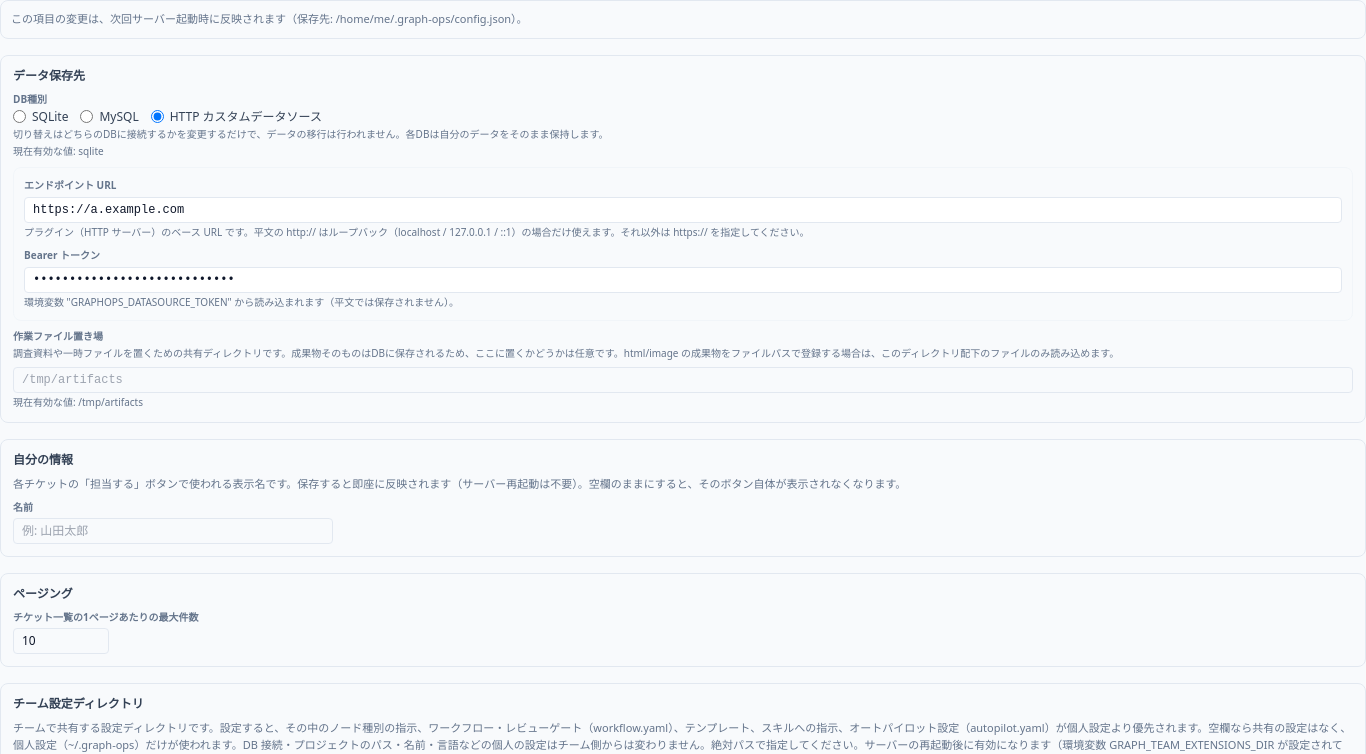
Test: AppSettingsEditor: HTTP custom data source › changing the URL empties the saved token and asks for it again; reverting restores it
Replace the text in the field labelled "エンドポイント URL" with "https://b.example.com" at x=683, y=210, box [24,196,1342,222]
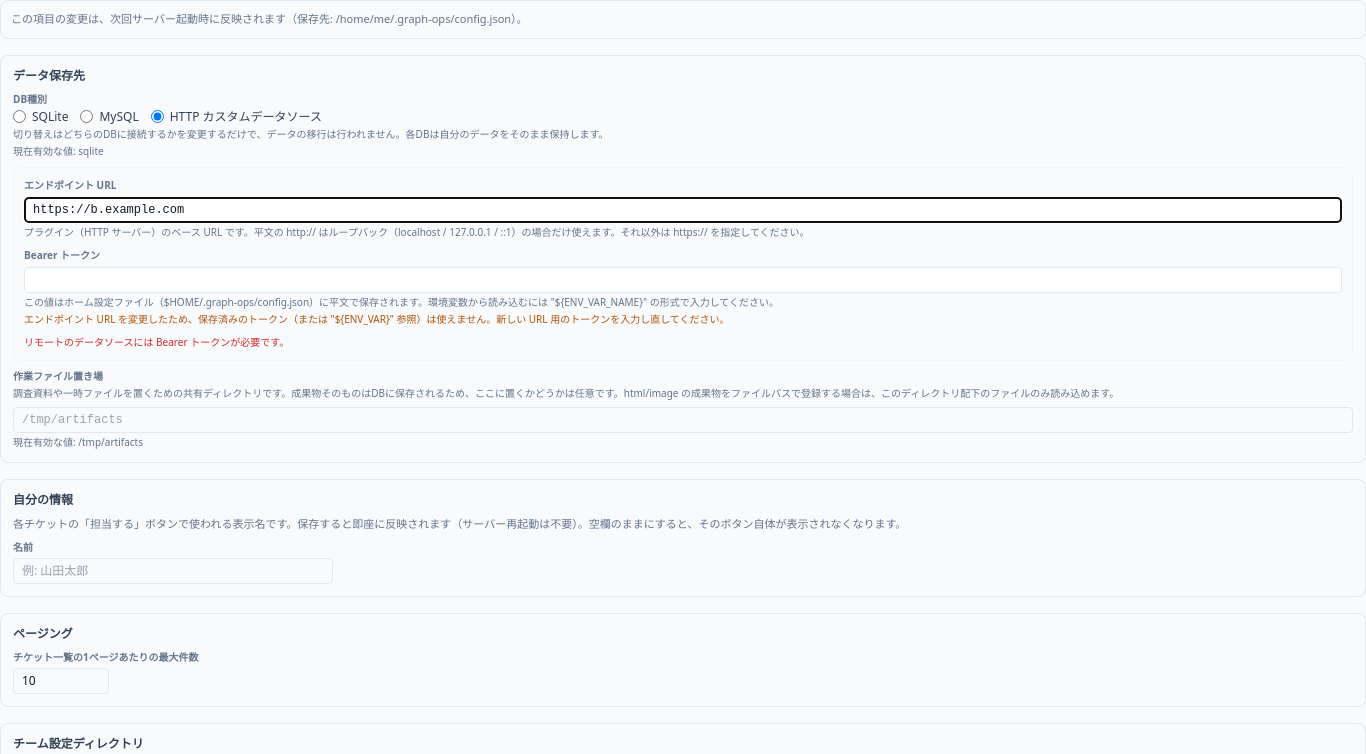
Expected: the password field labelled "Bearer トークン" is empty, [24,266,1342,292]
Expected: the text "エンドポイント URL を変更したため、保存済みのトークン（または \"${ENV_VAR}\" 参照）は使えません。新しい URL 用のトークンを入力し直してください。" is shown, [24,312,730,326]
Replace the text in the field labelled "エンドポイント URL" with "https://a.example.com/" at x=683, y=210, box [24,196,1342,222]
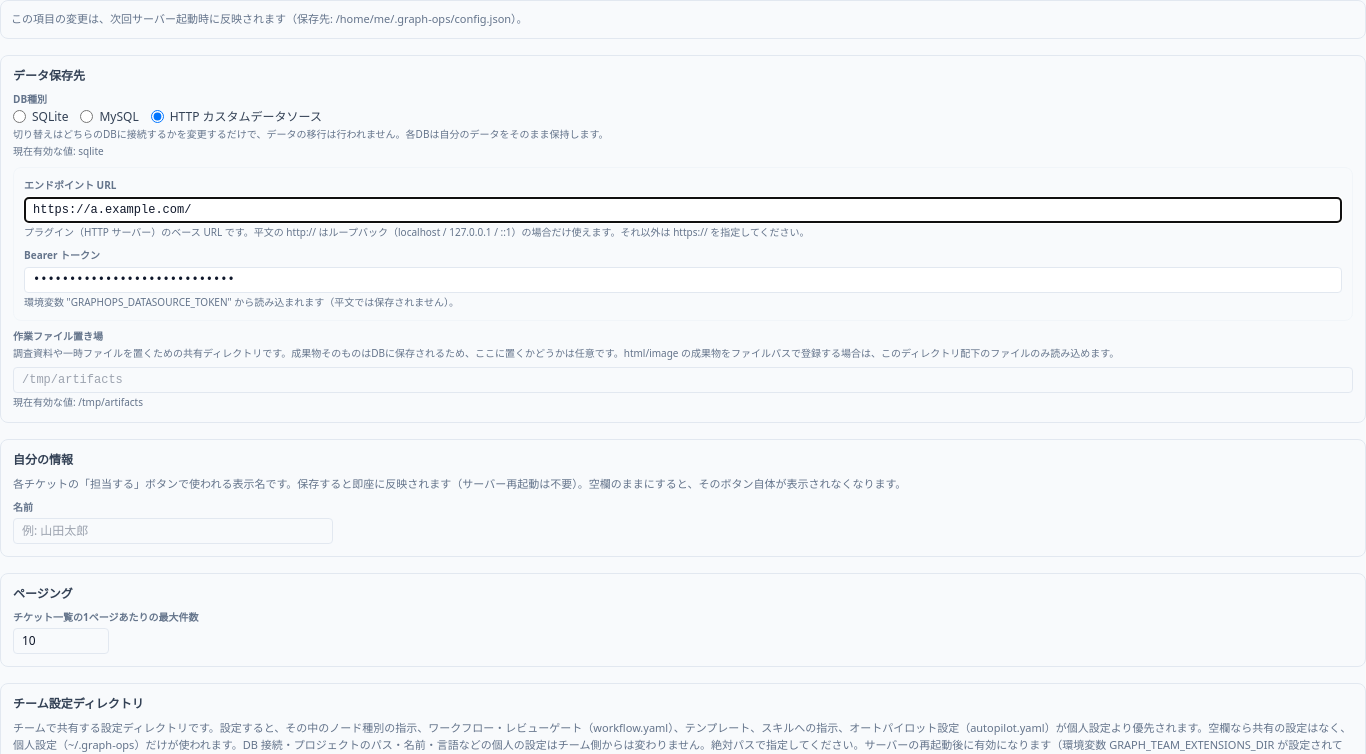
Expected: the password field labelled "Bearer トークン" holds "${GRAPHOPS_DATASOURCE_TOKEN}", [24,266,1342,292]
Expected: the text "エンドポイント URL を変更したため、保存済みのトークン（または \"${ENV_VAR}\" 参照）は使えません。新しい URL 用のトークンを入力し直してください。" is gone
